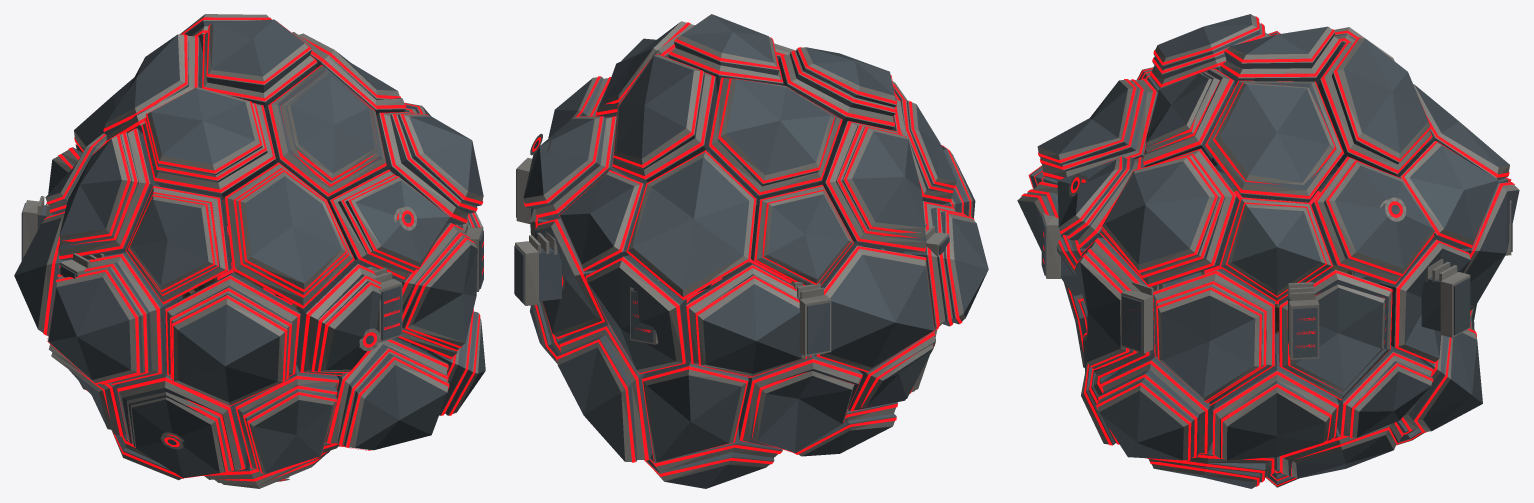
Rendered from boss.glb.
The picture shows the model from 3 angles, left to right: view 1: azimuth 30°, elevation 25°; view 2: azimuth 150°, elevation 25°; view 3: azimuth 270°, elevation 25°; orthographic projection. The views are drawn at different scales.
Parts seen in each view (by area): view 1: armour_broken_shell, armour_intact_shell, armour_cracked_shell; view 2: armour_intact_shell, armour_cracked_shell, armour_broken_shell; view 3: armour_cracked_shell, armour_intact_shell, armour_broken_shell.
Boxes of the visible parts, x1=… form: armour_broken_shell: x1=47, y1=74, x2=485, y2=488; armour_intact_shell: x1=14, y1=26, x2=469, y2=479; armour_cracked_shell: x1=21, y1=14, x2=477, y2=485; armour_intact_shell: x1=514, y1=24, x2=955, y2=471; armour_cracked_shell: x1=516, y1=14, x2=966, y2=488; armour_broken_shell: x1=621, y1=38, x2=988, y2=389; armour_cracked_shell: x1=1027, y1=23, x2=1511, y2=482; armour_intact_shell: x1=1033, y1=32, x2=1519, y2=476; armour_broken_shell: x1=1017, y1=14, x2=1298, y2=488.
Size of the model in its own units: 29.99 by 29.29 by 30.63.
